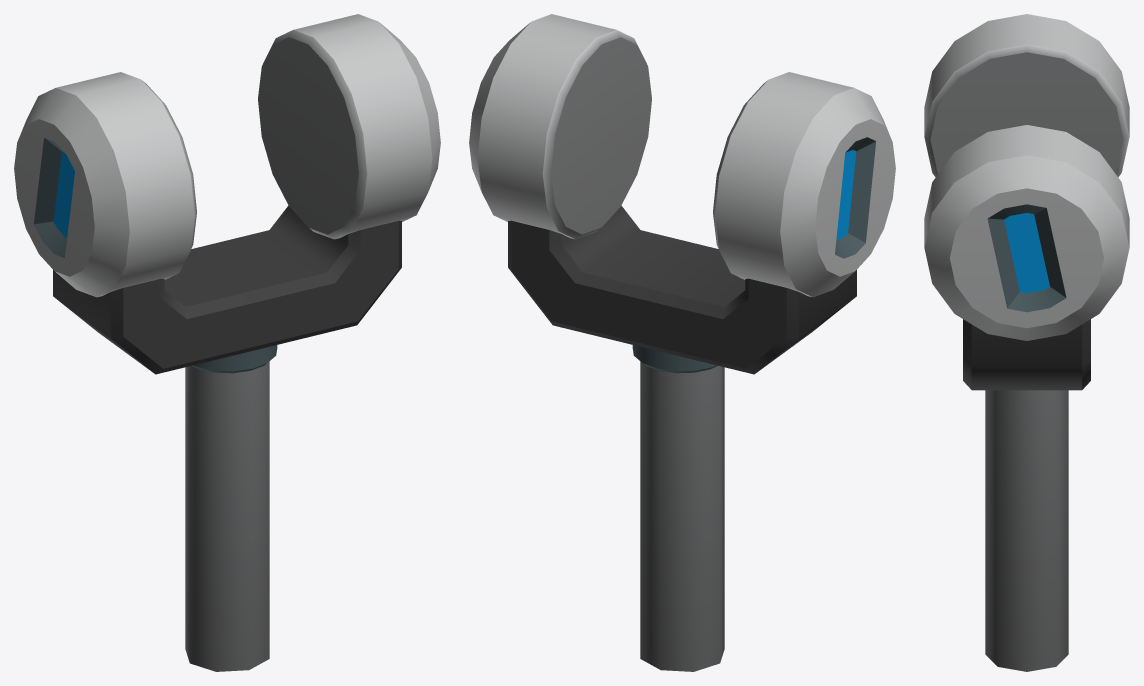
The model's file is Capsule_013_piston_001.fbx.
3 views of the same model, side by side, from view 1: azimuth 30°, elevation 25°; view 2: azimuth 150°, elevation 25°; view 3: azimuth 270°, elevation 25° (orthographic). The views are drawn at different scales.
Visible parts, largest first — view 1: Сapsule_013_piston_001; view 2: Сapsule_013_piston_001; view 3: Сapsule_013_piston_001.
Part boxes in pixels (left/top/right/bottom): Сapsule_013_piston_001: left=14, top=14, right=440, bottom=671; Сapsule_013_piston_001: left=469, top=14, right=895, bottom=671; Сapsule_013_piston_001: left=924, top=14, right=1129, bottom=671.
Bounding box in the file's own units: 90.29 × 48.45 × 148.
